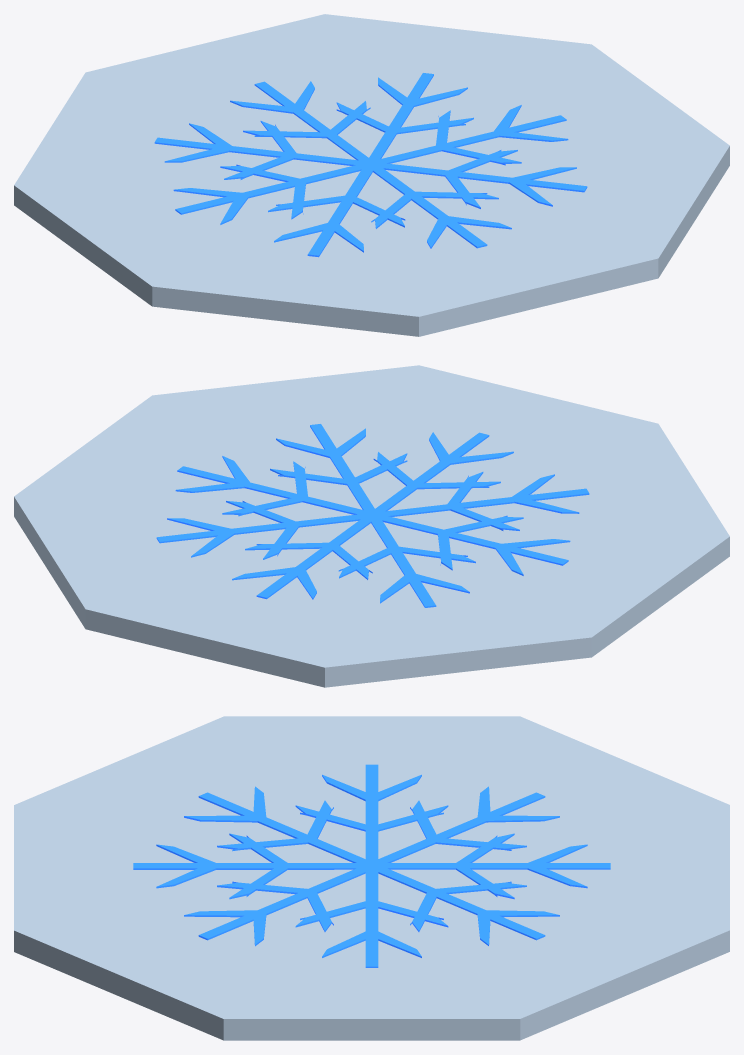
The model's file is bottom.fbx.
3 renders of one model, top to bottom at view 1: azimuth 30°, elevation 25°; view 2: azimuth 150°, elevation 25°; view 3: azimuth 270°, elevation 25°, orthographic. The views are drawn at different scales.
Visible parts, largest first — view 1: Cylinder, snowflake; view 2: Cylinder, snowflake; view 3: Cylinder, snowflake.
Boxes of the visible parts, left/top/right/bottom form: Cylinder: left=14, top=14, right=729, bottom=336; snowflake: left=154, top=73, right=587, bottom=257; Cylinder: left=14, top=365, right=729, bottom=687; snowflake: left=156, top=424, right=589, bottom=607; Cylinder: left=14, top=716, right=729, bottom=1040; snowflake: left=133, top=764, right=610, bottom=967.
Bounding box in the file's own units: 514 × 18.37 × 514.
